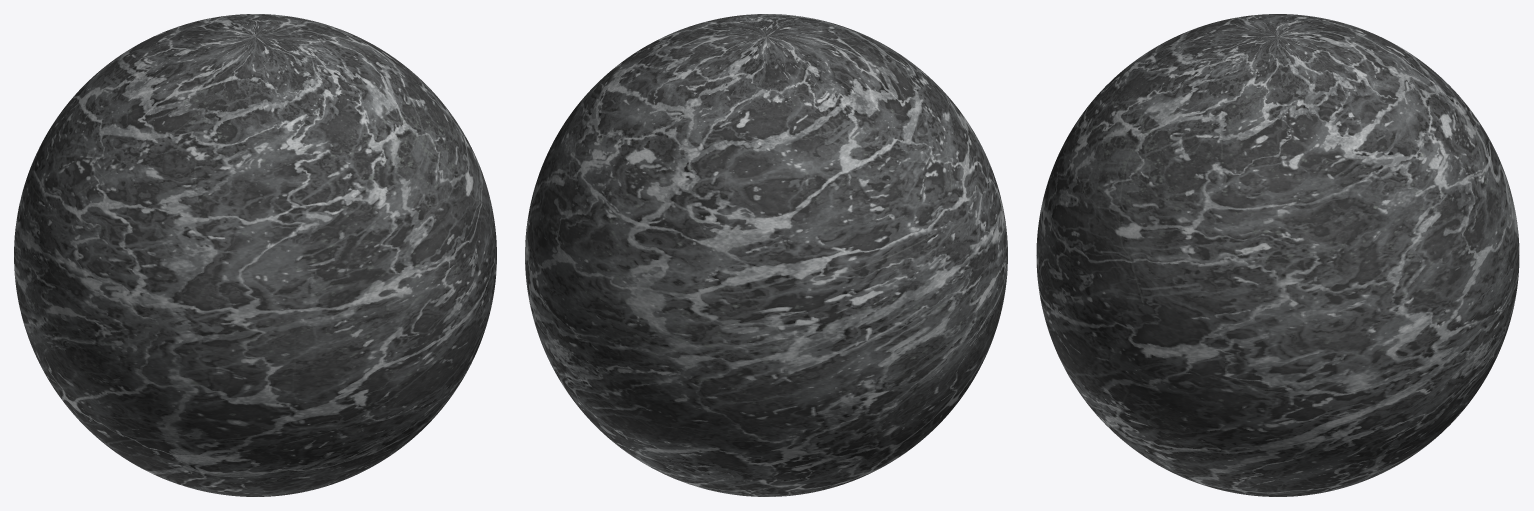
The model's file is pawn.glb.
3 renders of one model, left to right at view 1: azimuth 30°, elevation 25°; view 2: azimuth 150°, elevation 25°; view 3: azimuth 270°, elevation 25°, orthographic.
Parts seen in each view (by area): view 1: pawn; view 2: pawn; view 3: pawn.
Part boxes in pixels (box(x1,y1,x2,y2)): pawn: box(14, 14, 496, 496); pawn: box(525, 14, 1007, 496); pawn: box(1036, 14, 1519, 496).
Bounding box in the file's own units: 3.06 × 3.06 × 3.06.
Materials: 1 (1 with a texture image).
